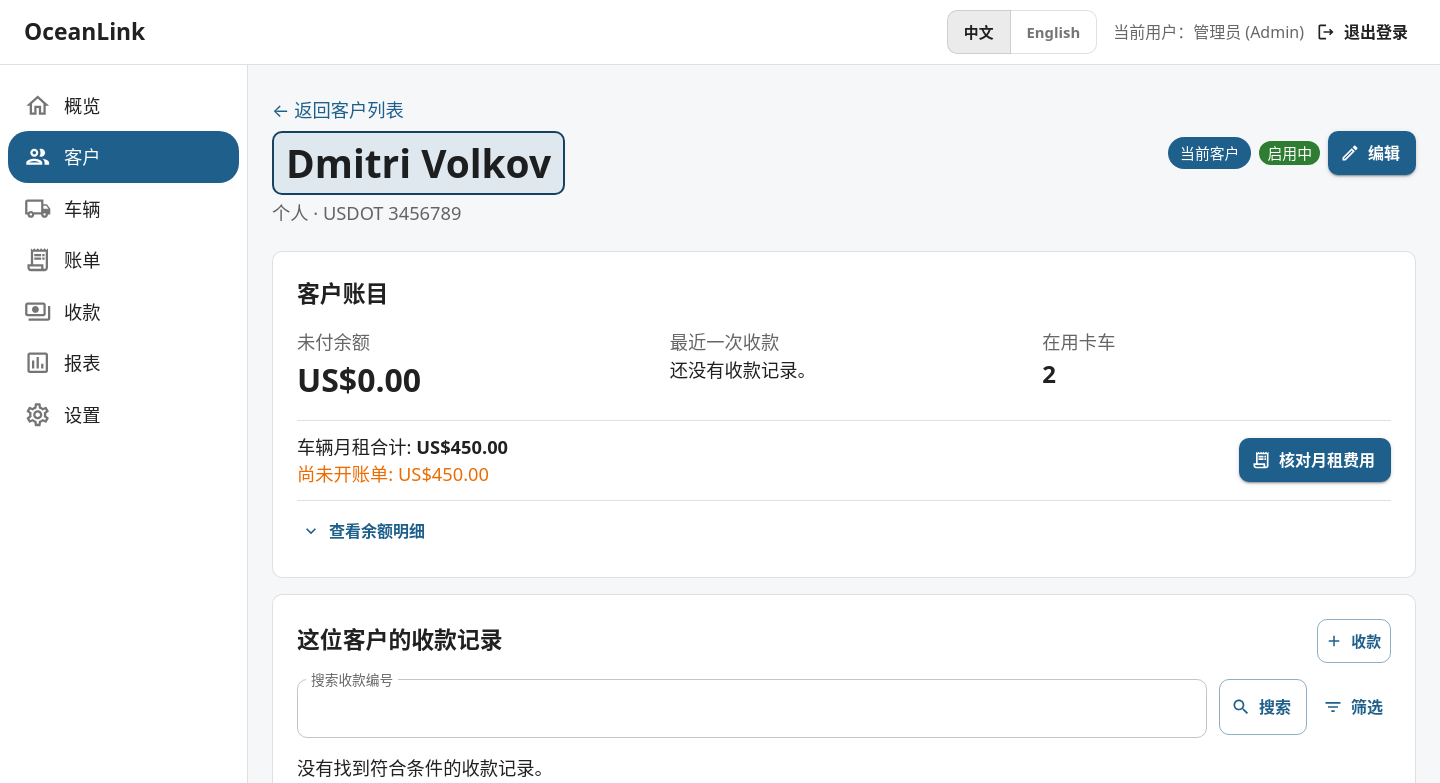
Test case: customer monthly billing workflow › keeps extra balance details collapsed and supports the Chinese summary
The width and height of the screenshot is (1440, 783).
expect the text "尚未开账单: US$450.00" is shown: met, box [297,460,508,488]
Click the button "查看余额明细".
click(365, 531)  # box [297,509,433,553]
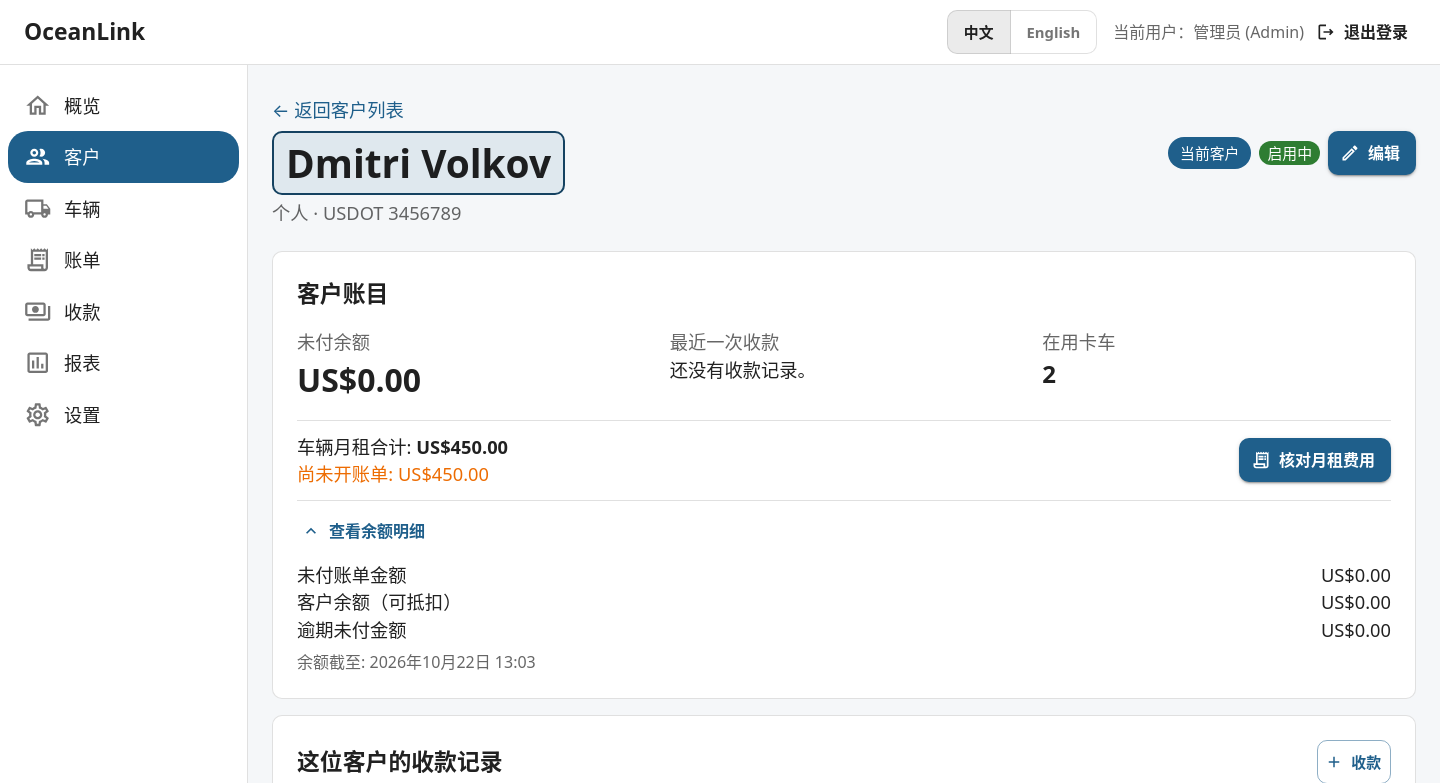
expect the button "核对月租费用" is shown: met, box [1239,438,1391,482]
expect the button "查看余额明细" is expanded: met, box [297,509,433,553]
